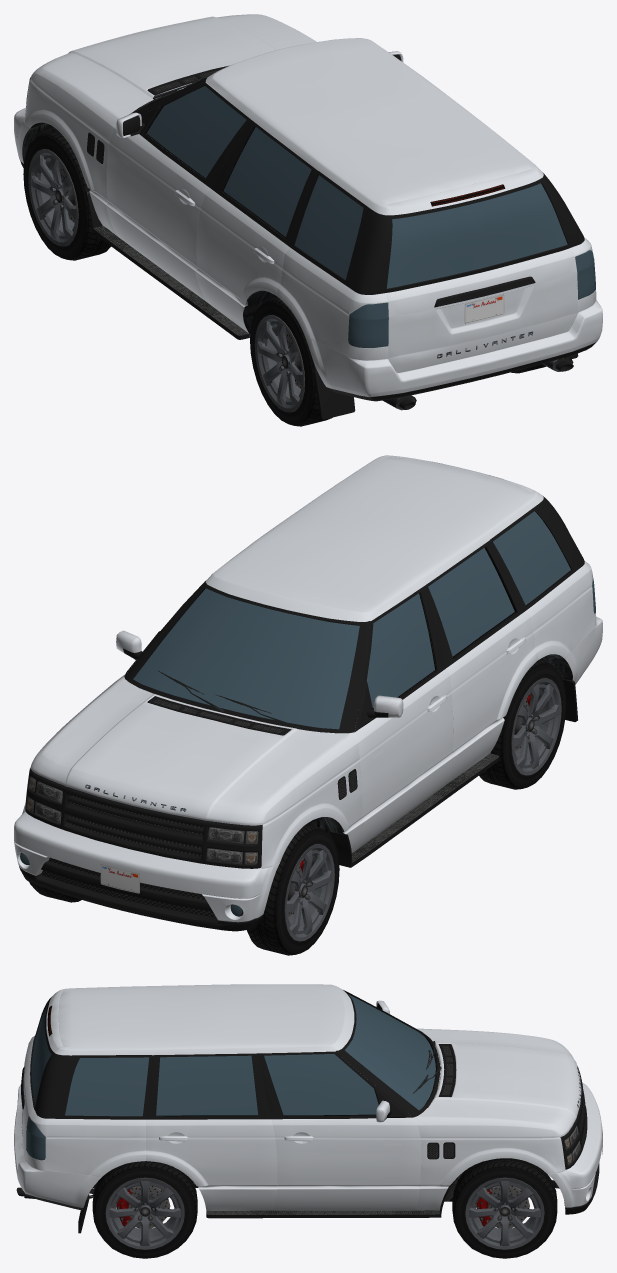
File: baller.glb
3 renders of one model, top to bottom at view 1: azimuth 30°, elevation 25°; view 2: azimuth 150°, elevation 25°; view 3: azimuth 270°, elevation 25°, orthographic. The views are drawn at different scales.
Parts seen in each view (by area): view 1: bodyshell, boot, bonnet, door_dside_f, windscreen_r, bumper_r, door_dside_r, wheel_lf, wheel_lr, window_lr, window_lf, wing_lf (+6 smaller); view 2: bodyshell, bonnet, windscreen, bumper_f, door_dside_f, door_dside_r, wheel_lf, wheel_lr, wing_lf, window_lr, window_lf, window_lm (+4 smaller); view 3: bodyshell, door_pside_f, bonnet, door_pside_r, wheel_rf, wheel_rr, window_rr, windscreen, window_rf, wing_rf, window_rm, bumper_r (+5 smaller).
Boxes of the visible parts, x1,y1,x2,y2 form: bodyshell: (25,38,596,360); boot: (386,169,577,372); bonnet: (30,14,316,142); door_dside_f: (106,82,251,302); windscreen_r: (386,183,567,288); bumper_r: (305,299,602,419); door_dside_r: (195,120,317,333); wheel_lf: (23,129,110,260); wheel_lr: (250,296,332,426); window_lr: (223,127,311,236); window_lf: (147,86,246,178); wing_lf: (24,79,117,243); bodyshell: (25,455,596,868); bonnet: (30,676,359,825); windscreen: (133,588,359,729); bumper_f: (14,807,279,931); door_dside_f: (354,587,454,848); door_dside_r: (423,540,538,782); wheel_lf: (247,824,339,955); wheel_lr: (479,659,566,789); wing_lf: (261,760,368,868); window_lr: (428,547,514,656); window_lf: (366,593,434,707); window_lm: (493,511,570,604); bodyshell: (26,984,587,1218); door_pside_f: (257,1051,421,1210); bonnet: (413,1028,581,1138); door_pside_r: (146,1053,277,1210); wheel_rf: (452,1158,557,1258); wheel_rr: (92,1161,197,1258); window_rr: (156,1055,258,1115); windscreen: (345,994,435,1110); window_rf: (264,1054,378,1115); wing_rf: (415,1137,565,1217); window_rm: (65,1057,149,1116); bumper_r: (14,1084,102,1233).
Bounding box in the file's own units: 2.21 × 1.87 × 4.99.
17 materials, 8 textured.
